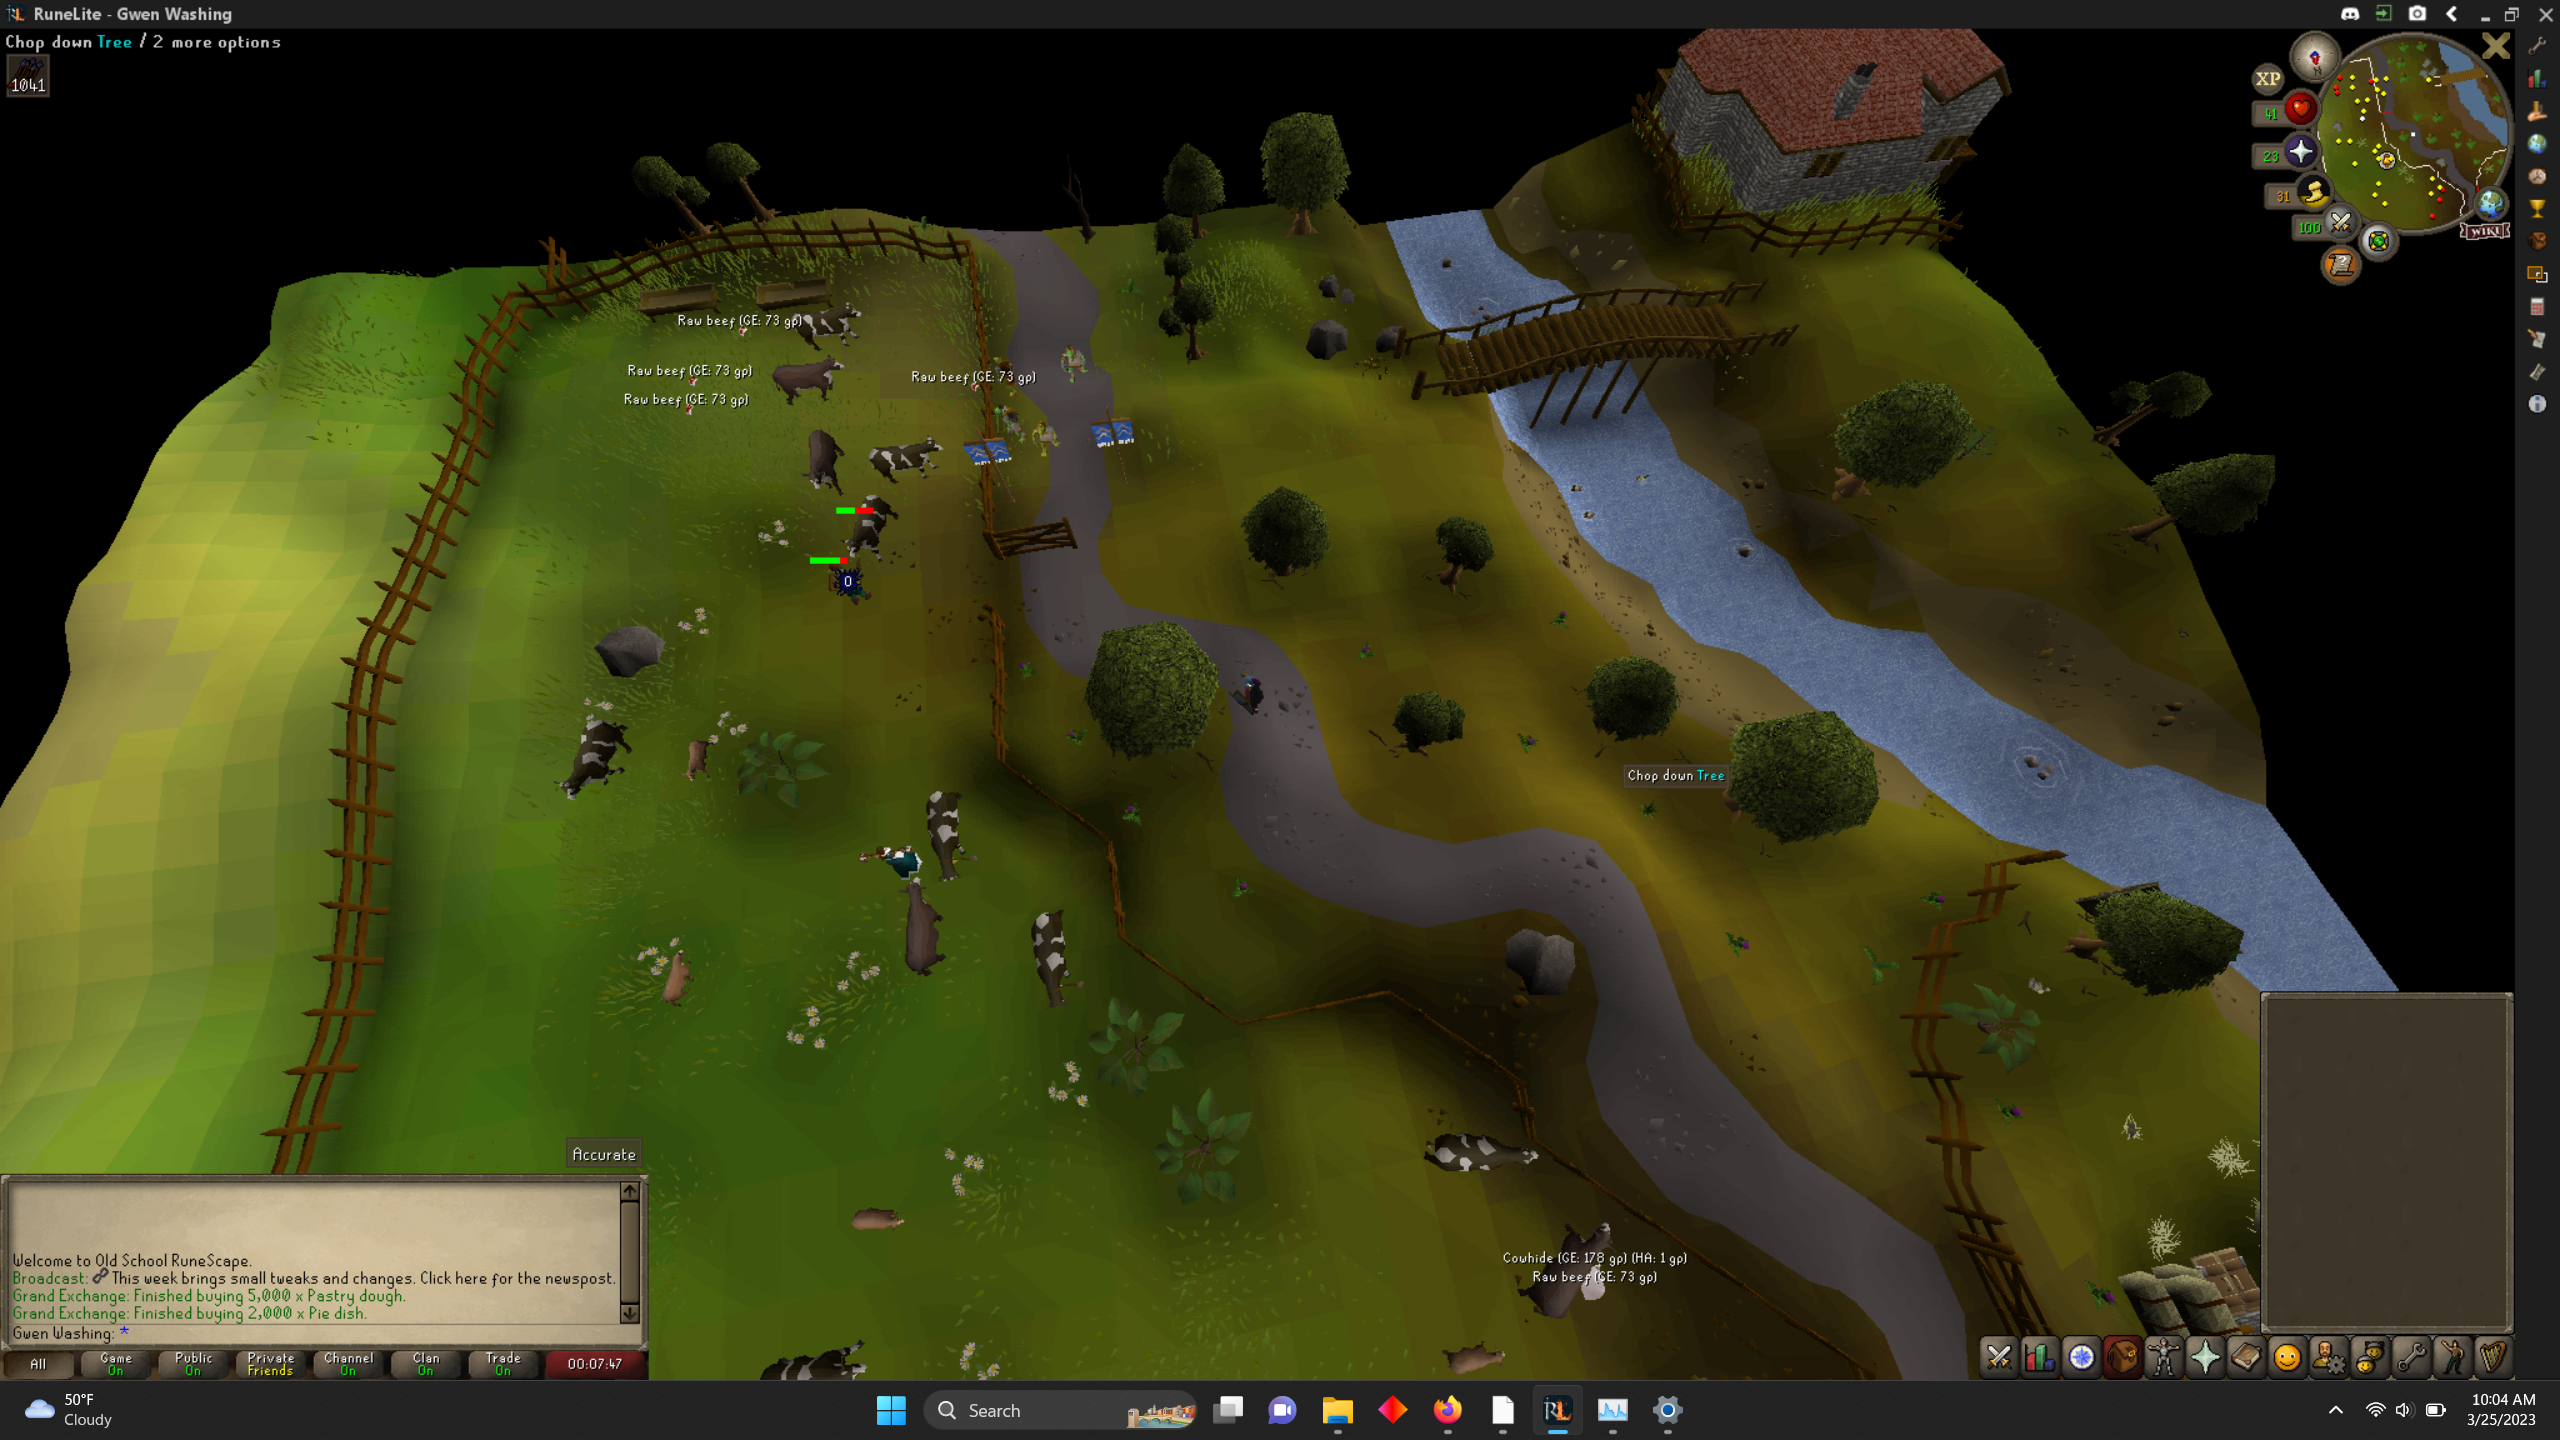cow: (1514, 1218, 1628, 1329), (1421, 1124, 1558, 1183), (557, 716, 638, 804), (1027, 897, 1080, 1016), (765, 352, 853, 418), (897, 877, 948, 988), (751, 1336, 879, 1380), (867, 427, 951, 492), (789, 297, 865, 359), (842, 491, 904, 564), (800, 422, 849, 508), (925, 779, 967, 870), (652, 946, 702, 1022), (1436, 1335, 1524, 1373), (842, 1199, 914, 1240), (679, 730, 726, 784)
